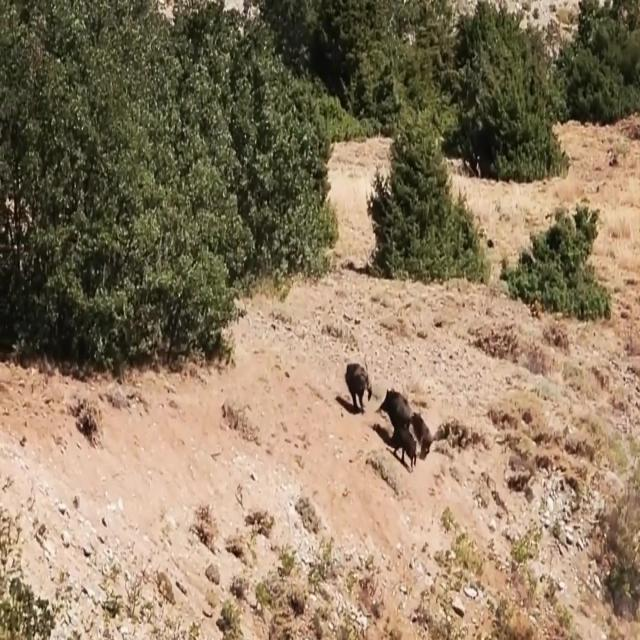pig: (335, 337, 382, 421), (407, 392, 441, 462), (381, 377, 409, 438)
